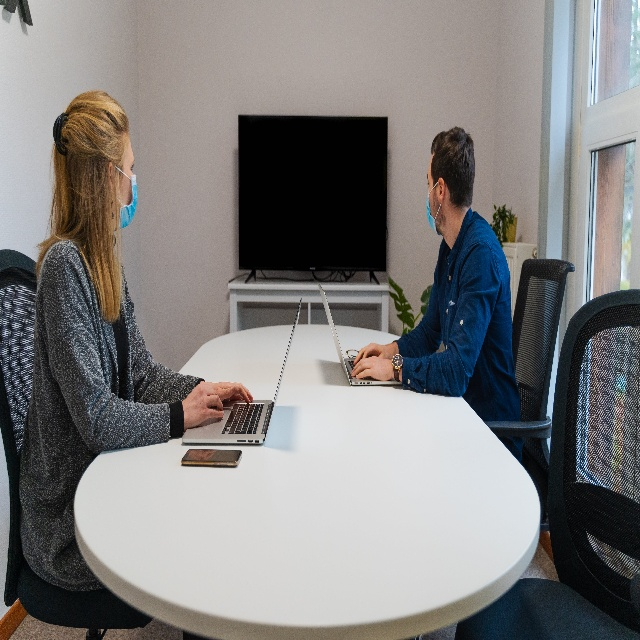Mascara: (117, 172, 137, 229), (426, 187, 442, 235)
Sin_guantes: (184, 383, 224, 430), (204, 377, 255, 405), (351, 356, 394, 380), (354, 341, 392, 365)
